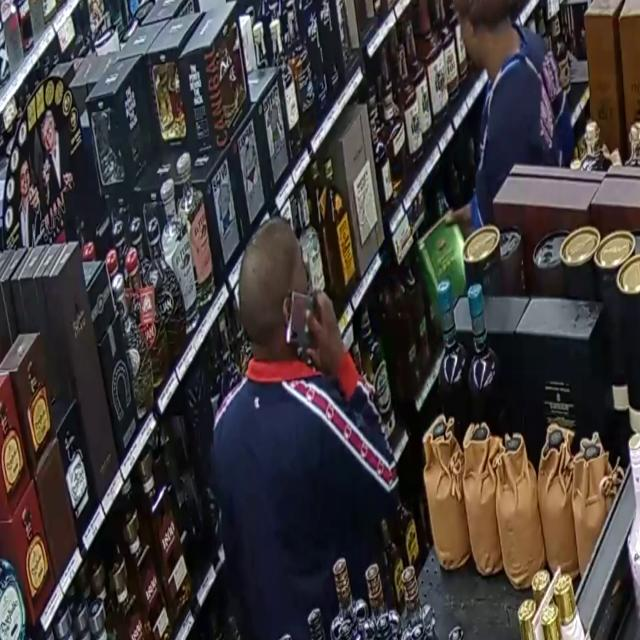Product: (413, 209, 469, 305)
normal: (199, 220, 399, 640)
shoplifting: (380, 0, 586, 477)
